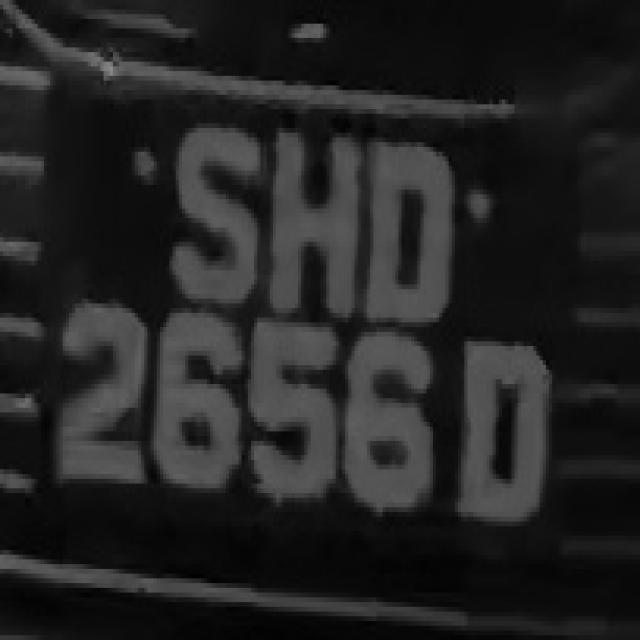2: (50, 289, 141, 498)
5: (245, 308, 342, 517)
6: (345, 322, 439, 522), (154, 294, 242, 498)
D: (461, 318, 559, 554), (361, 109, 461, 332)
H: (270, 100, 351, 322)
S: (169, 104, 270, 318)
